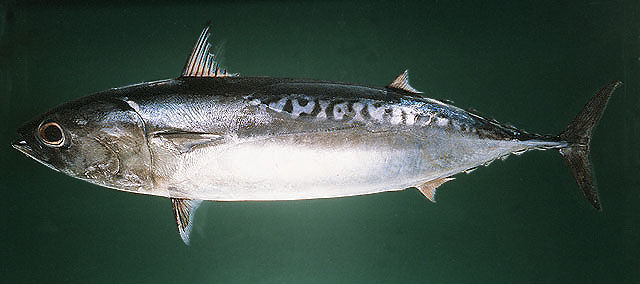fish: (11, 22, 624, 248)
